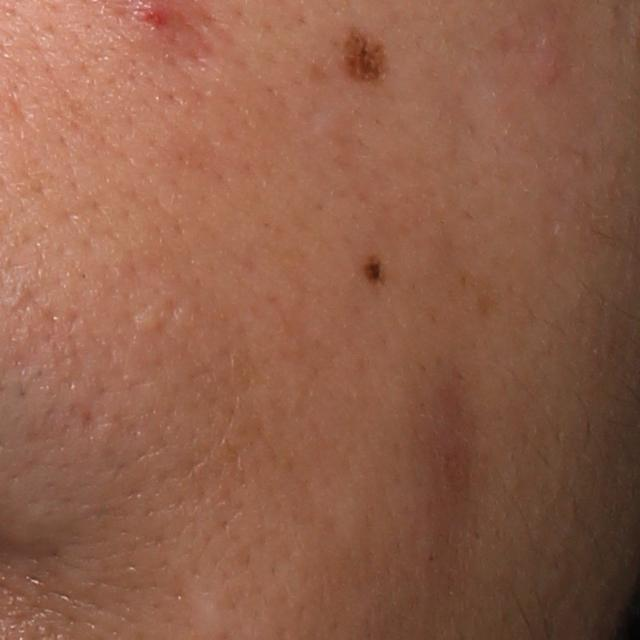hypertrophic_scar: (179, 576, 240, 640)
nevus: (341, 23, 397, 91), (361, 257, 388, 286)
papule: (536, 35, 572, 90)
